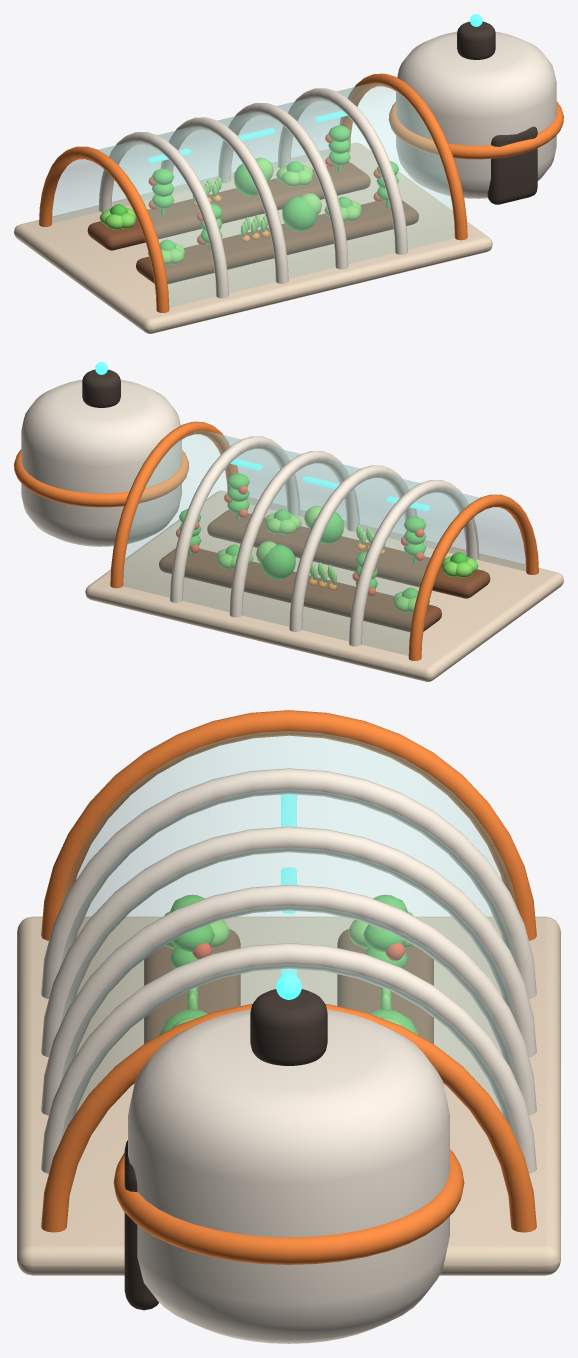
The model's file is greenhouse.glb.
3 renders of one model, top to bottom at view 1: azimuth 30°, elevation 25°; view 2: azimuth 150°, elevation 25°; view 3: azimuth 270°, elevation 25°, orthographic. The views are drawn at different scales.
Visible parts, largest first — view 1: Cylinder, Cube, Cylinder.007, Cube.001, Cube.002, Torus, Torus.001, Torus.003, Torus.004, Torus.005, Torus.002, Cube.006 (+4 smaller); view 2: Cylinder, Cube, Cylinder.007, Cube.002, Cube.001, Torus, Torus.001, Torus.003, Torus.004, Torus.005, Torus.002, Torus.006 (+3 smaller); view 3: Cylinder.007, Cylinder, Cube, Torus.003, Torus.002, Torus.001, Torus, Torus.004, Torus.005, Torus.006, Cylinder.008, Cube.002 (+2 smaller).
Part boxes in pixels (x1,y1,x2,y2): Cylinder: (52,83,454,307); Cube: (14,142,492,333); Cylinder.007: (396,31,556,198); Cube.001: (136,200,418,283); Cube.002: (87,162,370,250); Torus: (39,146,169,312); Torus.001: (98,132,228,298); Torus.003: (218,103,348,269); Torus.004: (278,88,407,254); Torus.005: (340,73,467,240); Torus.002: (161,117,288,283); Cube.006: (487,126,537,204); Cylinder: (123,431,525,655); Cube: (85,490,563,681); Cylinder.007: (21,379,181,546); Cube.002: (159,548,441,631); Cube.001: (207,510,490,598); Torus: (408,494,538,660); Torus.001: (349,480,479,646); Torus.003: (229,451,359,617); Torus.004: (170,436,299,602); Torus.005: (110,421,237,588); Torus.002: (289,465,416,631); Torus.006: (14,449,188,507); Cylinder.007: (128,1009,449,1343); Cylinder: (60,731,517,1140); Cube: (17,916,560,1275); Torus.003: (41,885,536,1115); Torus.002: (41,826,536,1057); Torus.001: (41,768,536,998); Torus: (41,710,536,940); Torus.004: (41,943,536,1173); Torus.005: (41,1004,536,1232); Torus.006: (113,1149,464,1264); Cylinder.008: (250,989,327,1065); Cube.002: (337,929,433,1043).
Bounding box in the file's own units: 3.4 × 1.21 × 1.69.
